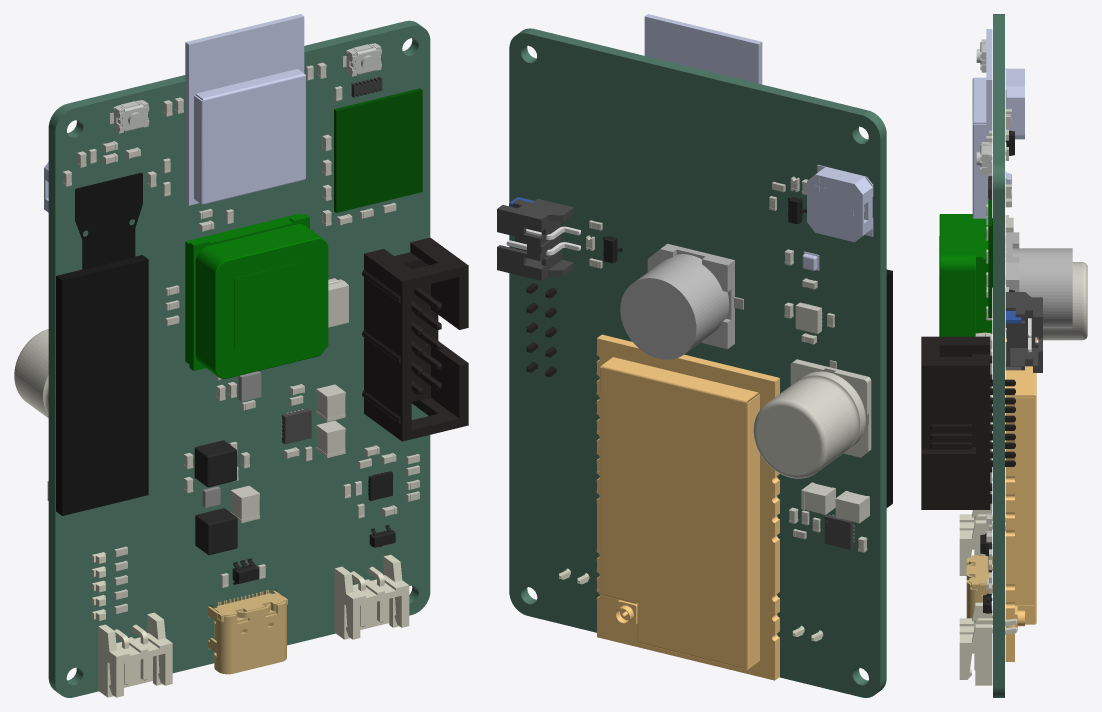
Rendered from Rasalhague.glb.
3 views of the same model, side by side, from view 1: azimuth 30°, elevation 25°; view 2: azimuth 150°, elevation 25°; view 3: azimuth 270°, elevation 25° (orthographic). The views are drawn at different scales.
Parts seen in each view (by area): view 1: =>[0:1:1:36], U11, U7, U6, J17, U13, J3, J5, J1, C2, L2, L1 (+7 smaller); view 2: =>[0:1:1:36], U14, C4, C2, U6, =>[0:1:1:30], LS1, U11, J17, C3, C1, =>[0:1:1:2]_1 (+1 smaller); view 3: J17, =>[0:1:1:36], U14, U7, C4, U6, =>[0:1:1:30], J5, C2, J1, LS1, J3 (+3 smaller).
Boxes of the visible parts, x1,y1,x2,y2 form: =>[0:1:1:36]: (48,20,430,697); U11: (56,172,148,515); U7: (185,213,328,378); U6: (185,14,305,205); J17: (362,237,468,441); U13: (334,88,422,212); J3: (208,590,287,674); J5: (334,554,409,639); J1: (98,612,172,697); C2: (14,329,48,418); L2: (194,440,236,487); L1: (195,508,237,554); =>[0:1:1:36]: (509,28,886,697); U14: (596,334,779,680); C4: (620,243,743,359); C2: (753,359,871,478); U6: (644,14,762,84); =>[0:1:1:30]: (497,199,573,280); LS1: (807,165,873,242); U11: (886,269,892,507); J17: (526,283,556,377); C3: (835,490,869,523); C1: (801,482,835,514); =>[0:1:1:2]_1: (824,514,853,549); J17: (921,336,1015,509); =>[0:1:1:36]: (993,14,1004,697); U14: (1005,332,1036,661); U7: (939,214,992,336); C4: (1005,232,1072,338); U6: (972,29,992,225); =>[0:1:1:30]: (1005,292,1042,372); J5: (959,602,1017,685); C2: (1005,258,1087,340); J1: (959,503,1005,575); LS1: (1005,68,1024,142); J3: (966,555,992,618).
Size of the model in its own units: 0.05 by 0.0801 by 0.0213.
